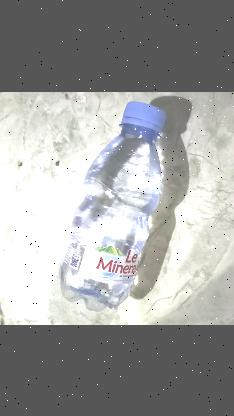Plastic Bottle: (58, 100, 166, 310)
